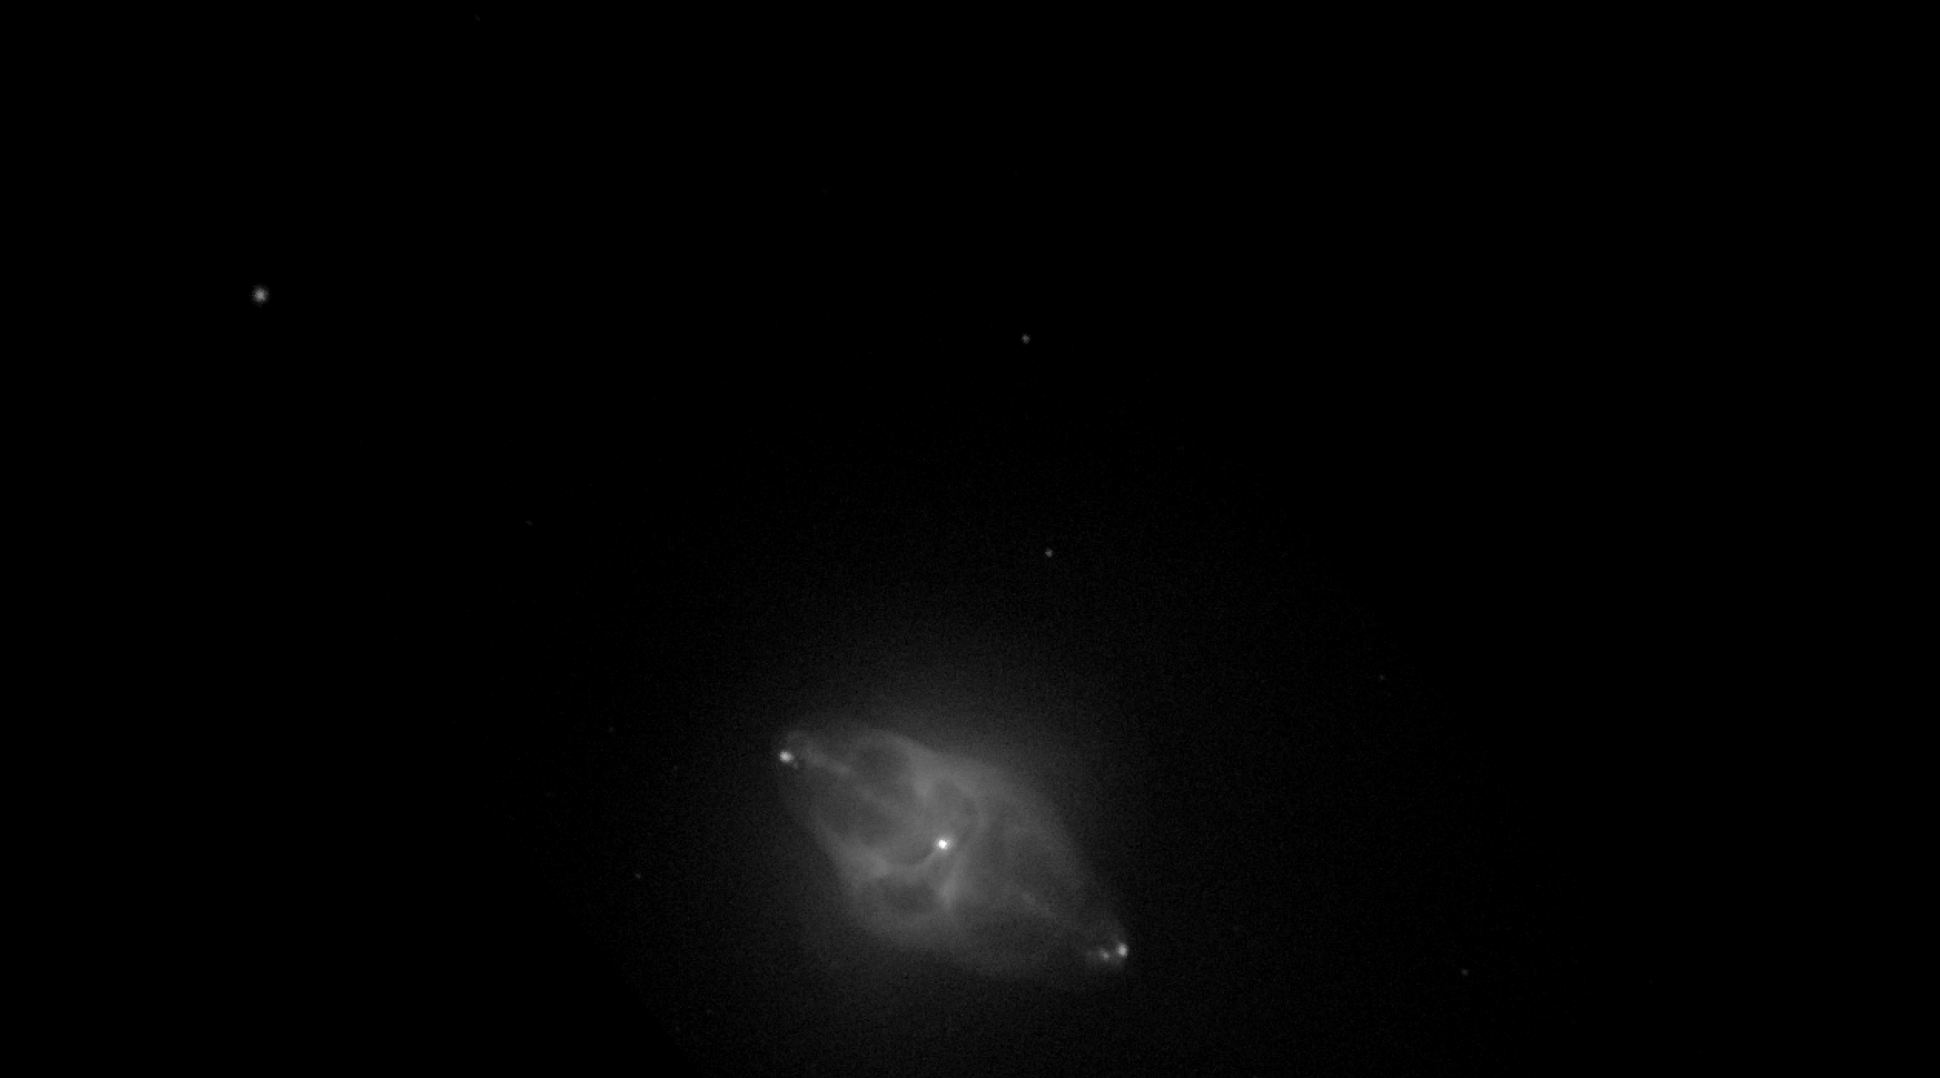Cavity: (949, 891, 1070, 977), (999, 820, 1077, 921), (841, 735, 921, 812), (857, 793, 935, 870), (794, 758, 863, 842), (857, 871, 950, 928), (977, 790, 1028, 882), (926, 774, 981, 836)
Galaxy: (758, 700, 1139, 1008)
